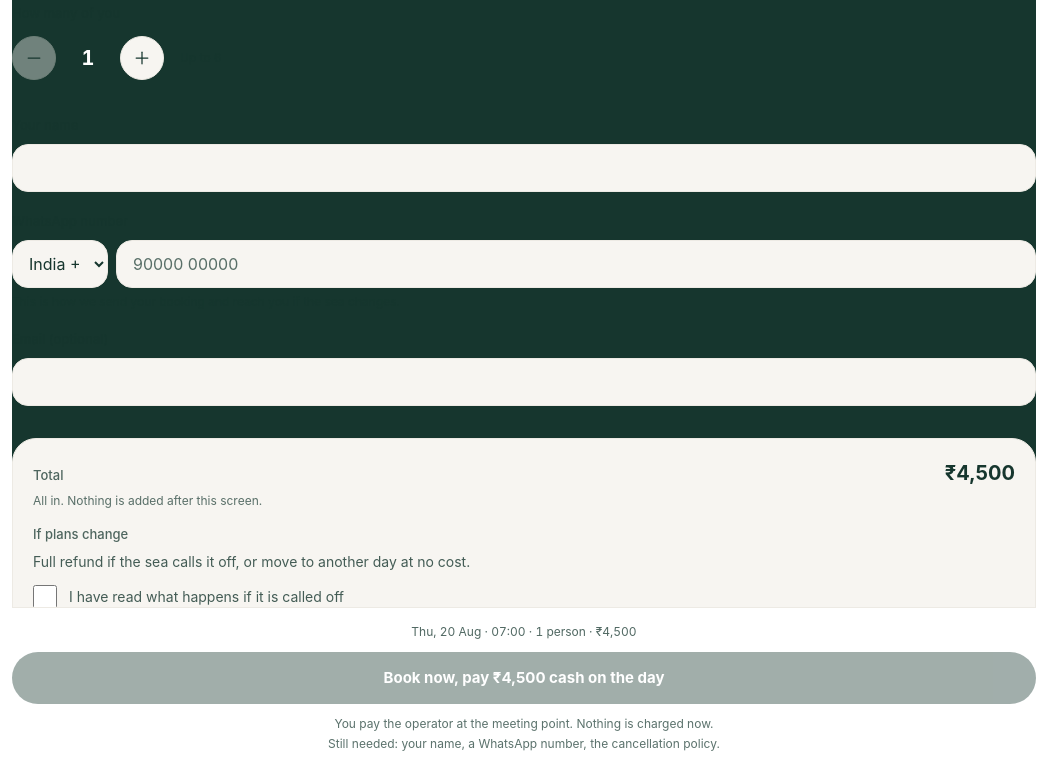
Test case: CheckoutForm — the device store is a convenience, never a gate › says where to go when the server returns a reservation with no token
Type "Asha Menon" into the field labelled "Your name" at [524, 168], box [12,144,1036,192]
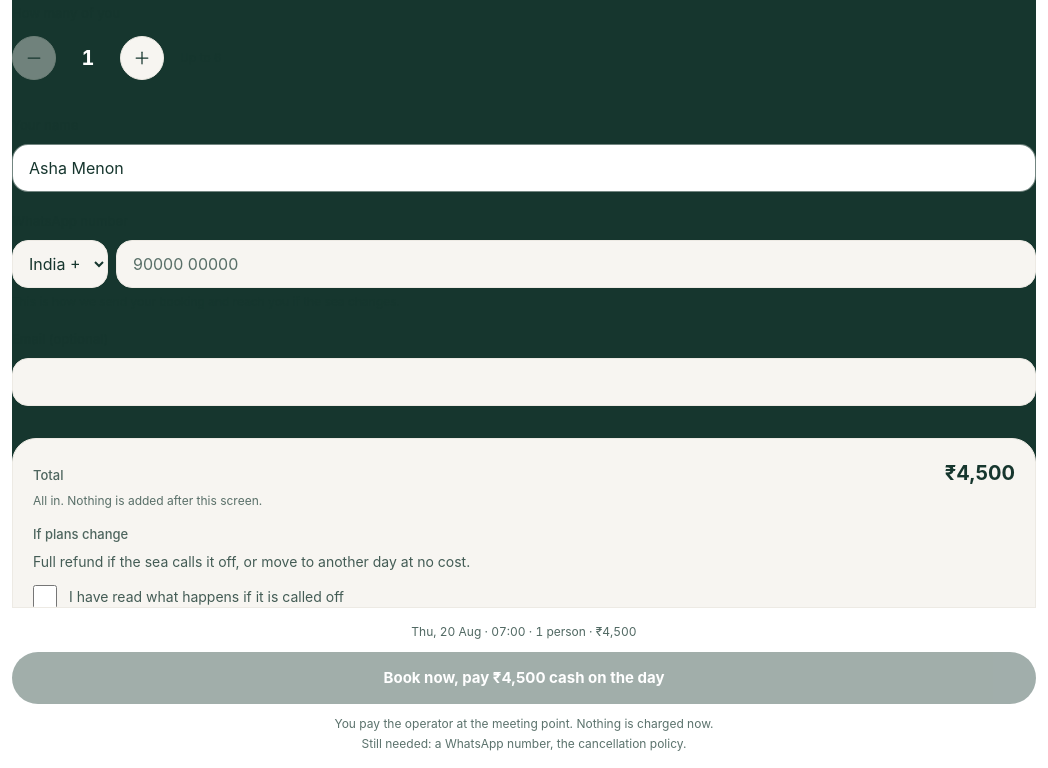
Type "+919000000000" into the field labelled "WhatsApp number" at [576, 264], box [116,240,1036,288]
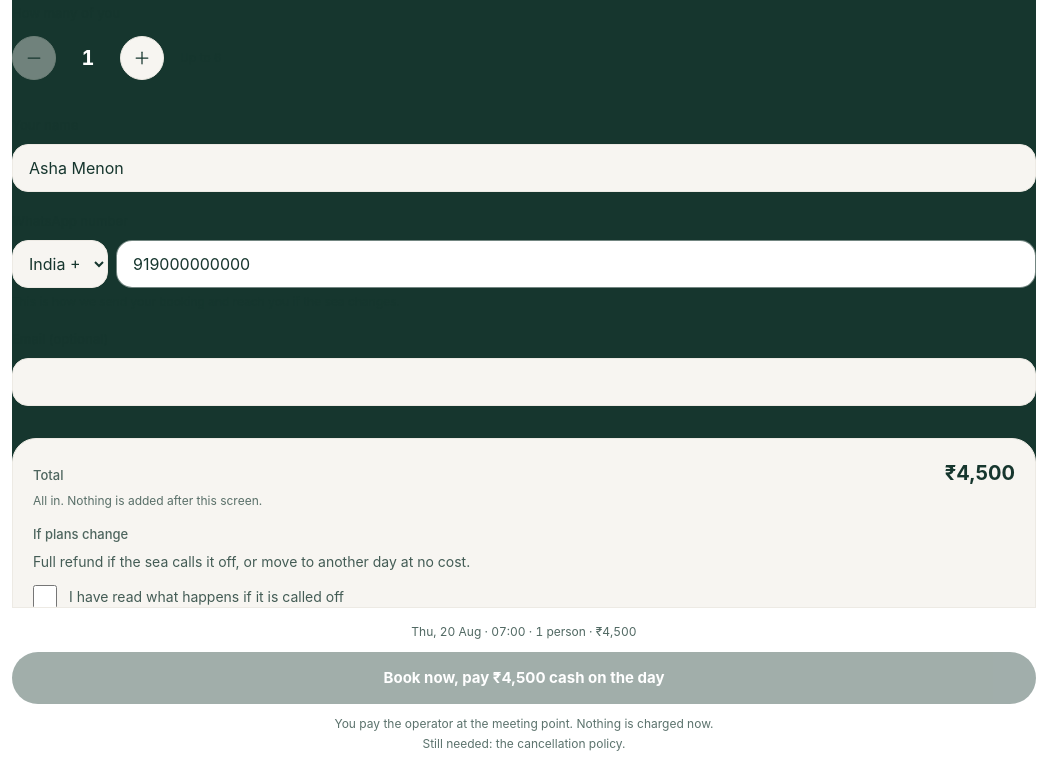
Click the checkbox labelled "I have read what happens if it is called off" at [45, 597], box [33,585,57,609]
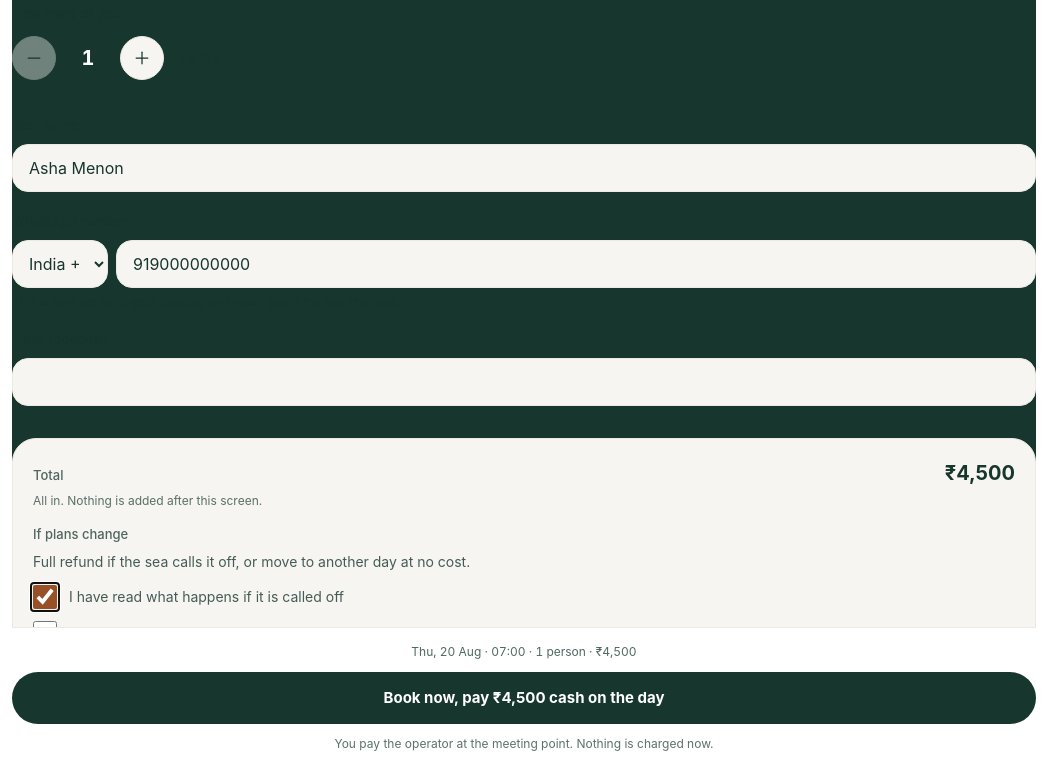
Click the button "Book now, pay ₹4,500 cash on the day" at [524, 698], box [12,672,1036,724]
(page scrolled)
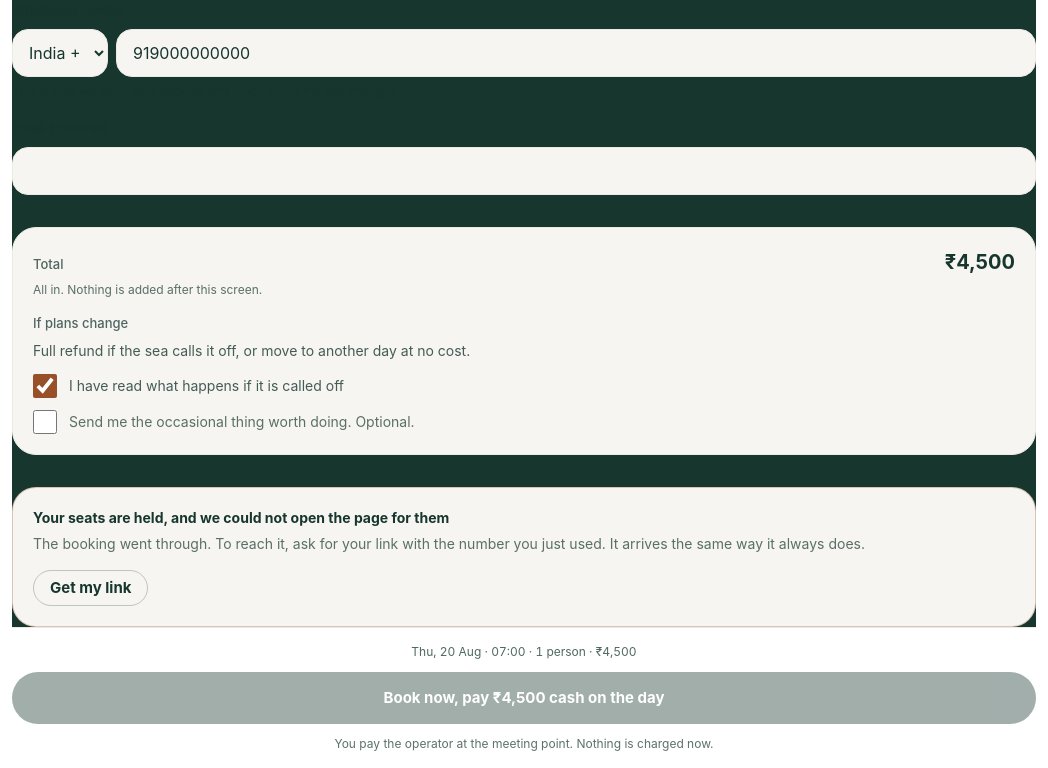
Expected: the text "Your seats are held, and we could not open the page for them" is shown, [33,509,449,526]
